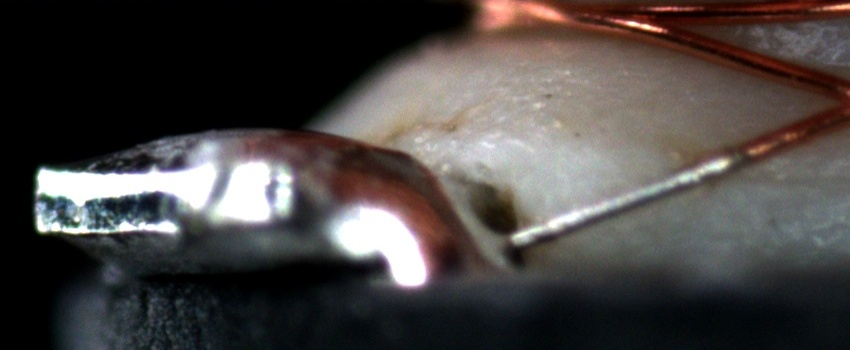DL: (687, 150, 850, 214)
TS: (510, 150, 747, 249)
